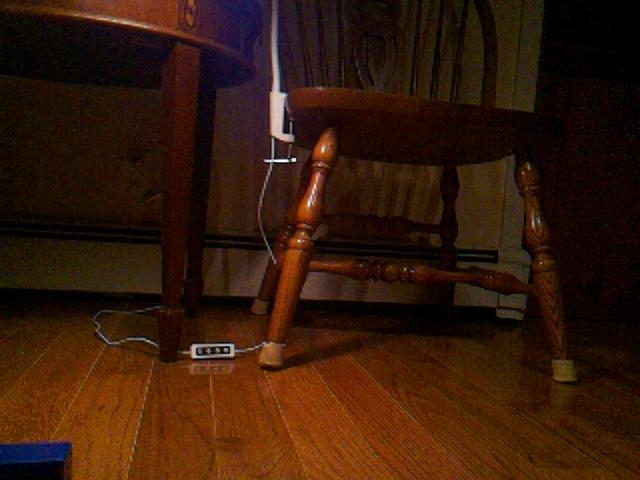blue: (1, 439, 73, 480)
